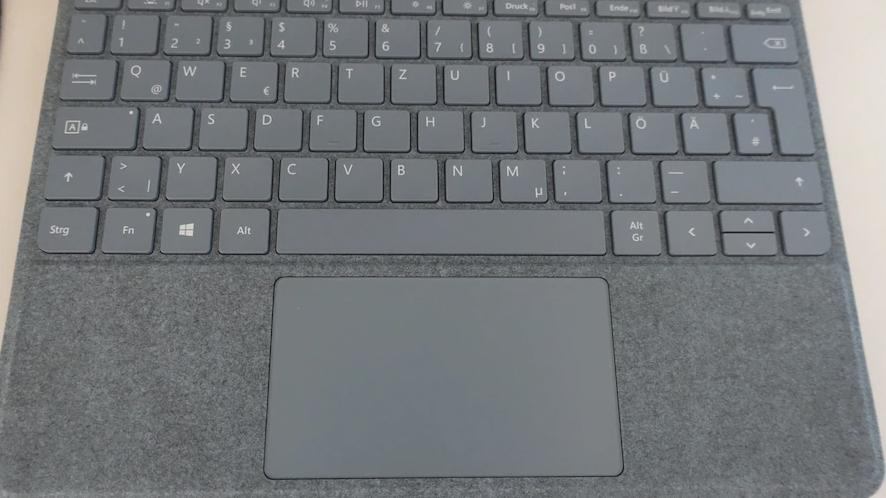0: (577, 18, 623, 59)
1: (107, 10, 157, 52)
2: (160, 10, 210, 53)
3: (213, 11, 262, 54)
4: (267, 13, 314, 54)
5: (319, 15, 366, 55)
6: (372, 15, 418, 56)
7: (423, 15, 470, 57)
8: (475, 16, 520, 57)
9: (525, 17, 572, 59)
a: (140, 102, 191, 148)
accent: (679, 19, 724, 59)
ae: (678, 108, 728, 152)
alt-left: (215, 204, 268, 253)
altgr-right: (608, 207, 660, 254)
b: (386, 154, 437, 200)
c: (275, 153, 327, 200)
caret: (64, 10, 103, 51)
comma: (549, 155, 600, 201)
d: (251, 104, 300, 149)
del: (729, 20, 797, 62)
e: (226, 57, 276, 100)
enter: (750, 63, 812, 152)
f: (306, 105, 355, 149)
g: (360, 106, 408, 150)
h: (414, 106, 462, 150)
hash: (732, 107, 770, 152)
i: (493, 60, 539, 103)
j: (468, 107, 515, 151)
k: (521, 108, 570, 152)
keyboard: (24, 1, 837, 267)
l: (574, 107, 622, 152)
less: (104, 151, 159, 199)
m: (496, 155, 545, 201)
minus: (656, 156, 708, 201)
n: (444, 157, 494, 203)
o: (544, 61, 591, 104)
oe: (627, 108, 676, 152)
p: (596, 61, 644, 104)
plus: (698, 63, 747, 105)
point: (604, 156, 654, 200)
q: (116, 55, 169, 99)
r: (281, 58, 329, 101)
s: (195, 104, 245, 149)
shift-left: (40, 151, 101, 199)
shift-lock: (48, 102, 136, 148)
shift-right: (712, 156, 822, 203)
space: (270, 205, 607, 254)
ss: (627, 18, 674, 59)
strg-left: (31, 202, 96, 252)
t: (335, 60, 382, 102)
tab: (56, 54, 114, 99)
u: (440, 60, 487, 103)
ue: (647, 62, 696, 105)
v: (331, 153, 382, 200)
w: (172, 56, 222, 99)
x: (219, 152, 271, 200)
y: (162, 152, 215, 199)
z: (387, 60, 435, 102)
